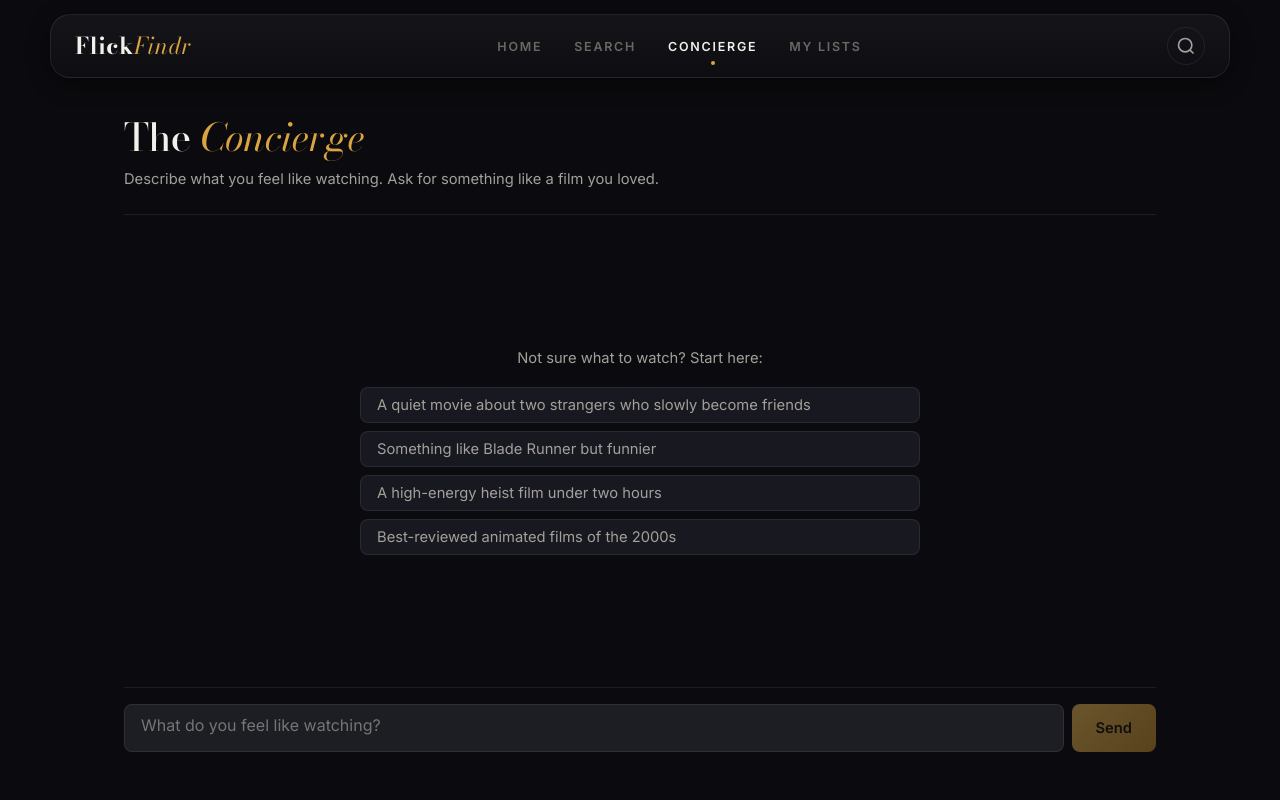
it: Concierge streaming › keeps the conversation when navigating away and back
The width and height of the screenshot is (1280, 800).
Type "a heist movie" into the text box named "Message the concierge".
click(594, 728); type("a heist movie")  # box x1=124 y1=704 x2=1064 y2=752
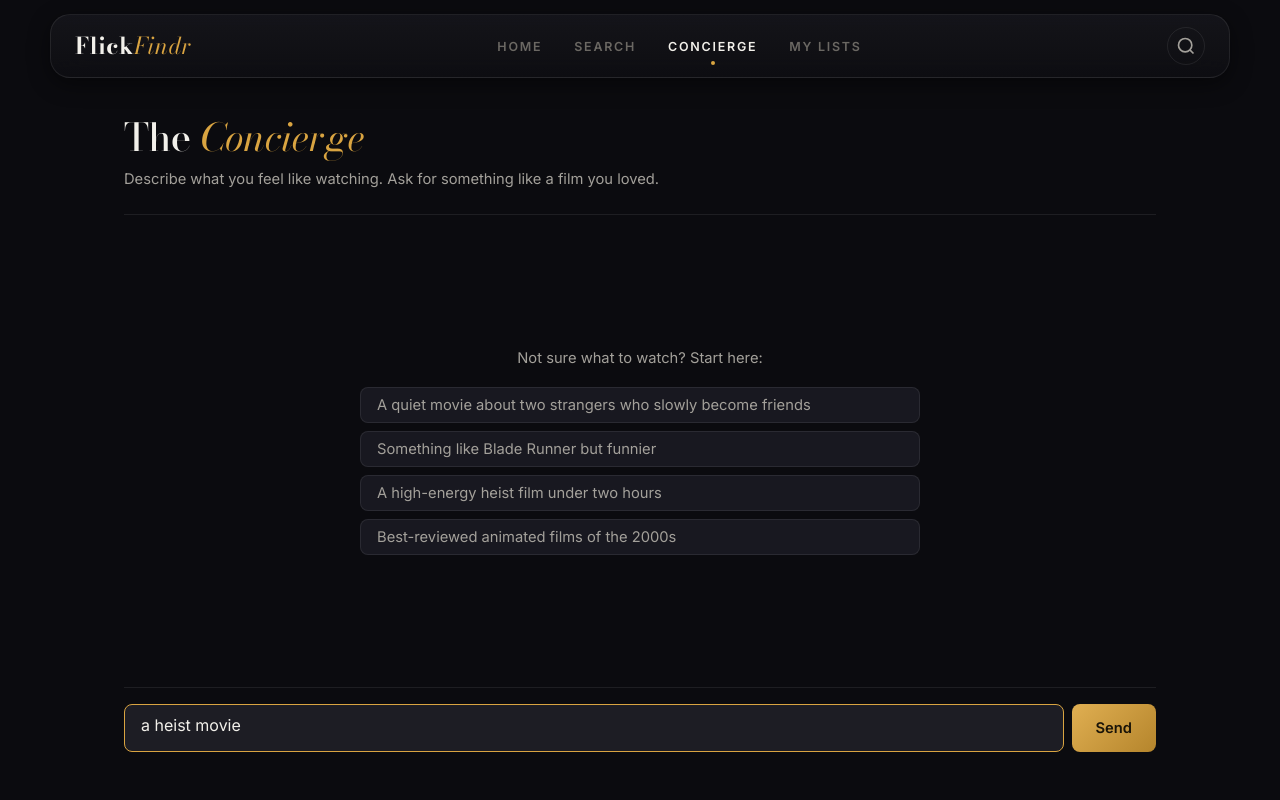
Click the button "Send".
click(1114, 728)  # box x1=1072 y1=704 x2=1156 y2=752
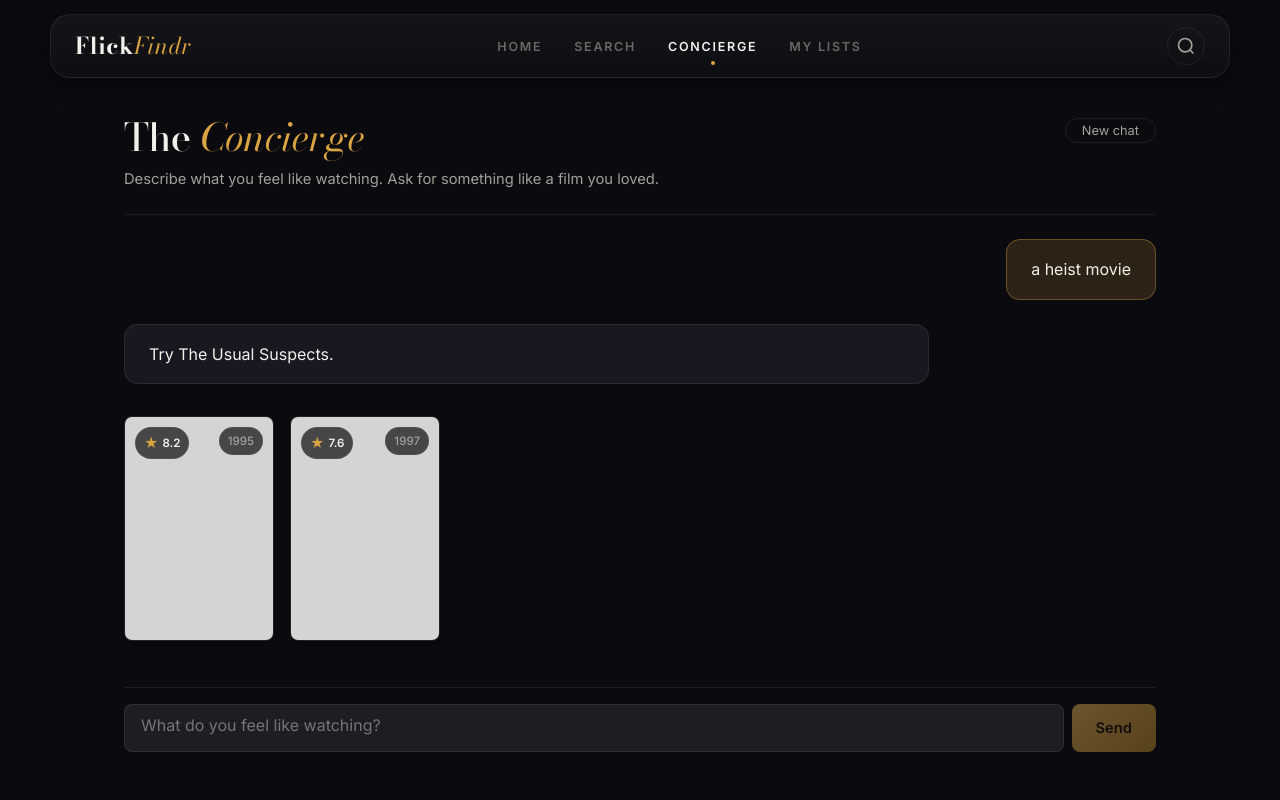
Click the link to "/".
click(520, 47)  # box x1=497 y1=39 x2=542 y2=54
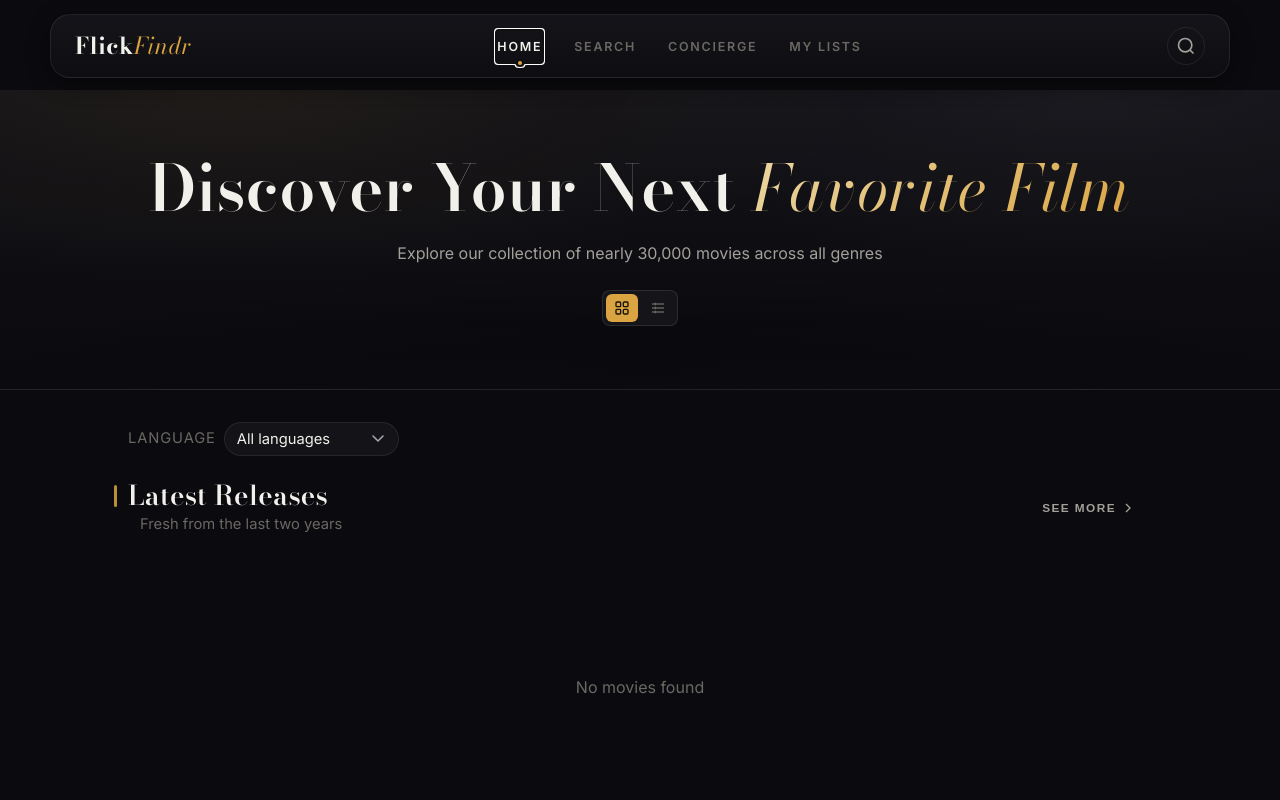
Check: the element with class "chat-page" is gone
Click the link to "/chat".
click(713, 47)  # box x1=668 y1=39 x2=757 y2=54
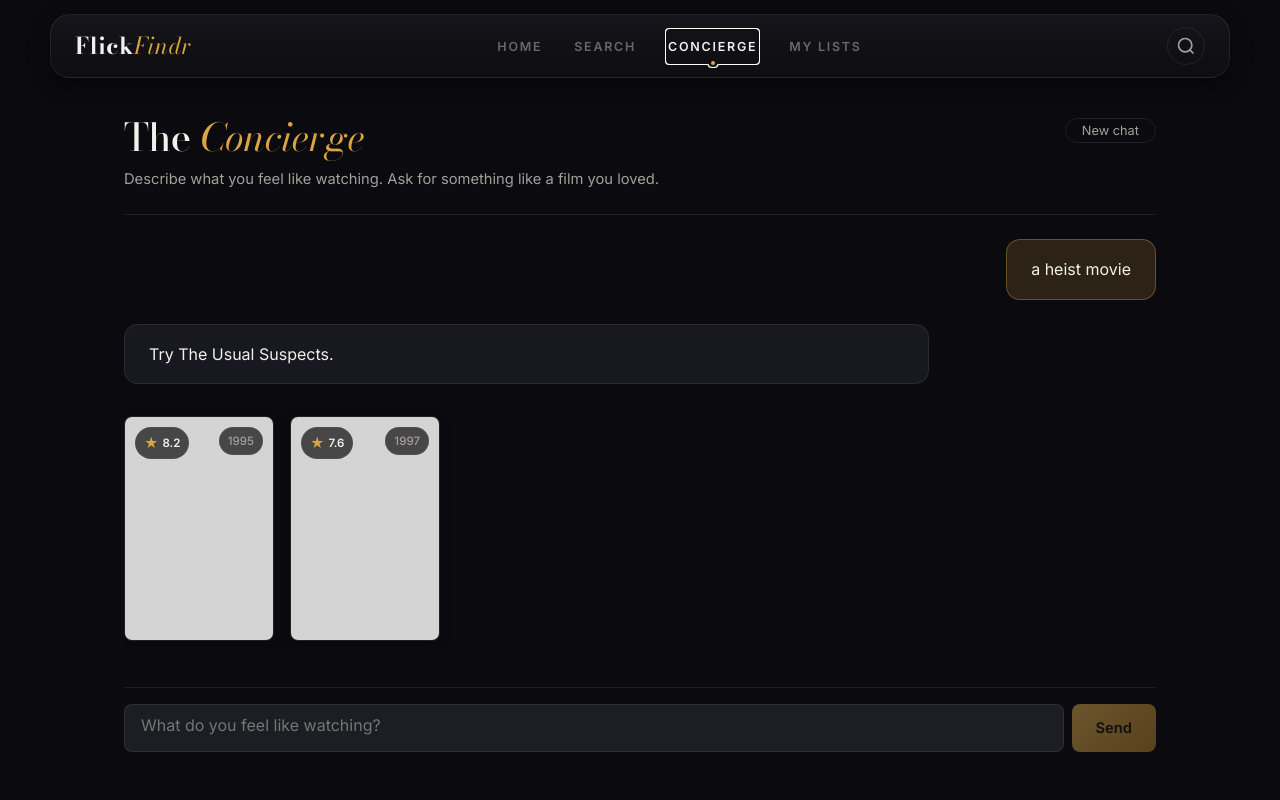
Check: the element with class "chat-page" is shown
Check: the text "a heist movie" is shown, box x1=1031 y1=256 x2=1131 y2=283
Check: the text "Try The Usual Suspects." is shown, box x1=149 y1=344 x2=334 y2=364
